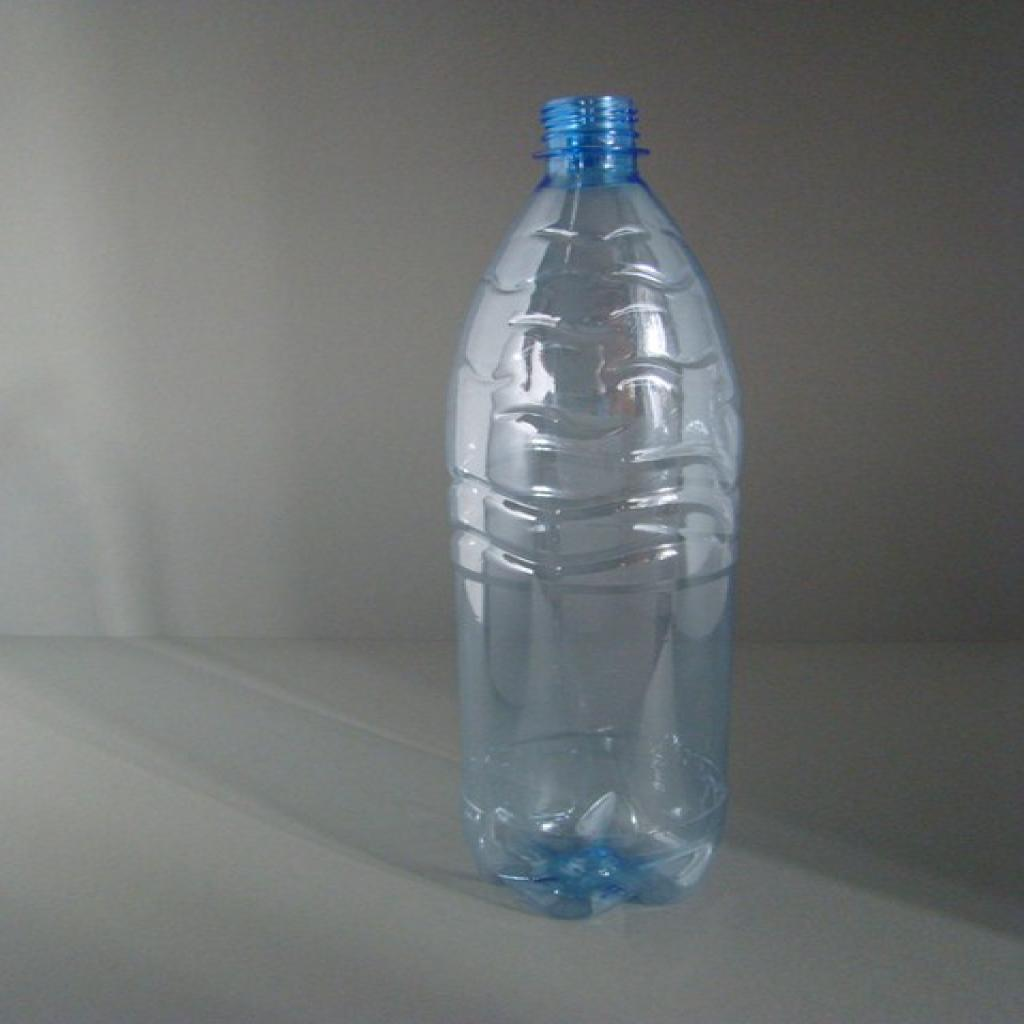plastic: (414, 65, 782, 933)
